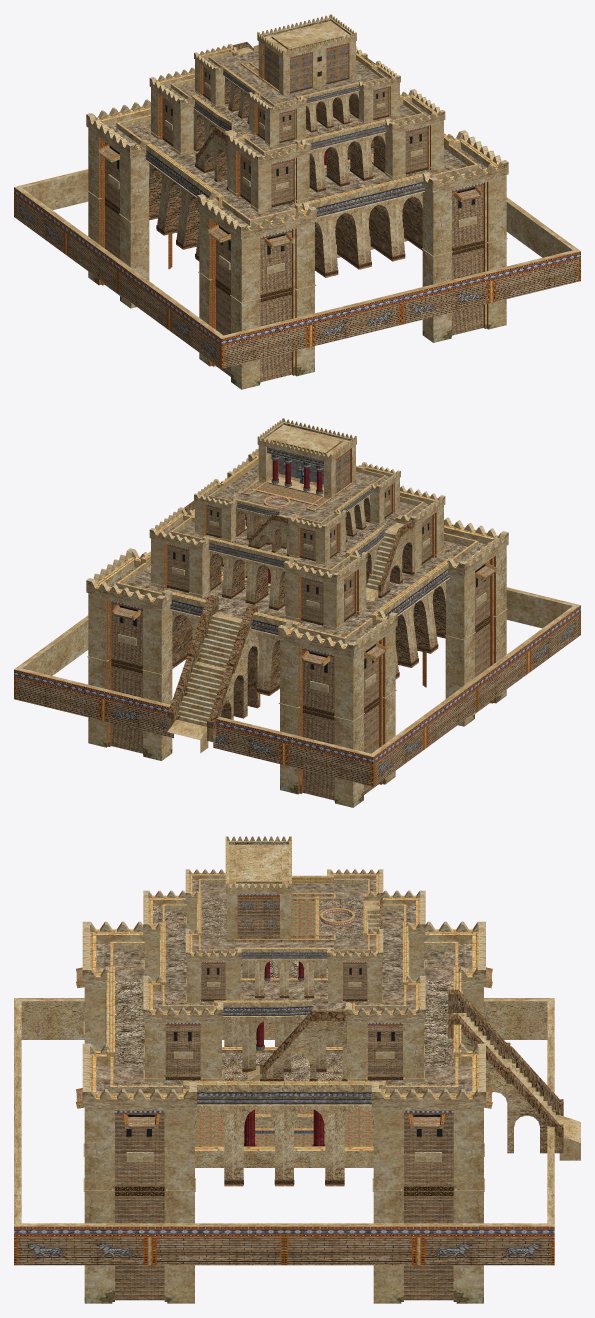
The model's file is pers_gardens.glb.
3 renders of one model, top to bottom at view 1: azimuth 30°, elevation 25°; view 2: azimuth 150°, elevation 25°; view 3: azimuth 270°, elevation 25°, orthographic. The views are drawn at different scales.
Size of the model in its own units: 57.49 by 42.18 by 60.29.
1 material, 1 textured.
